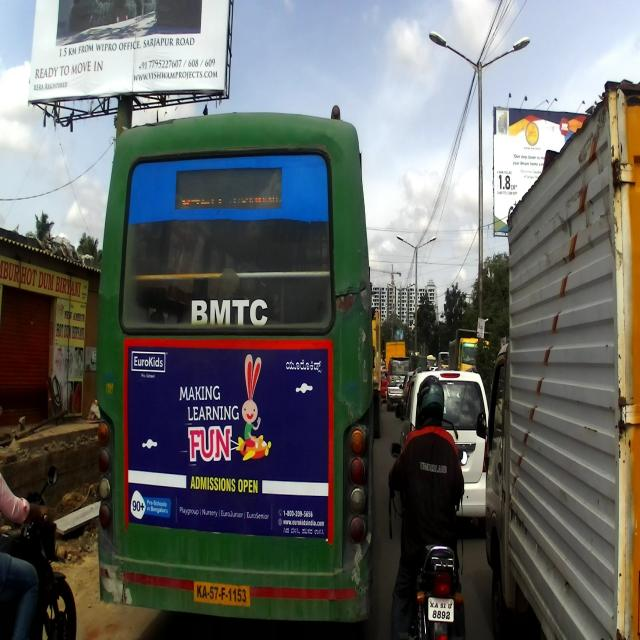Car_Maruti-Suzuki: (392, 362, 487, 522)
bus: (95, 104, 376, 634)
motorcycle_Hero: (384, 440, 469, 639)
motorcycle_Honda: (0, 456, 78, 639)
truck: (485, 118, 640, 640)
